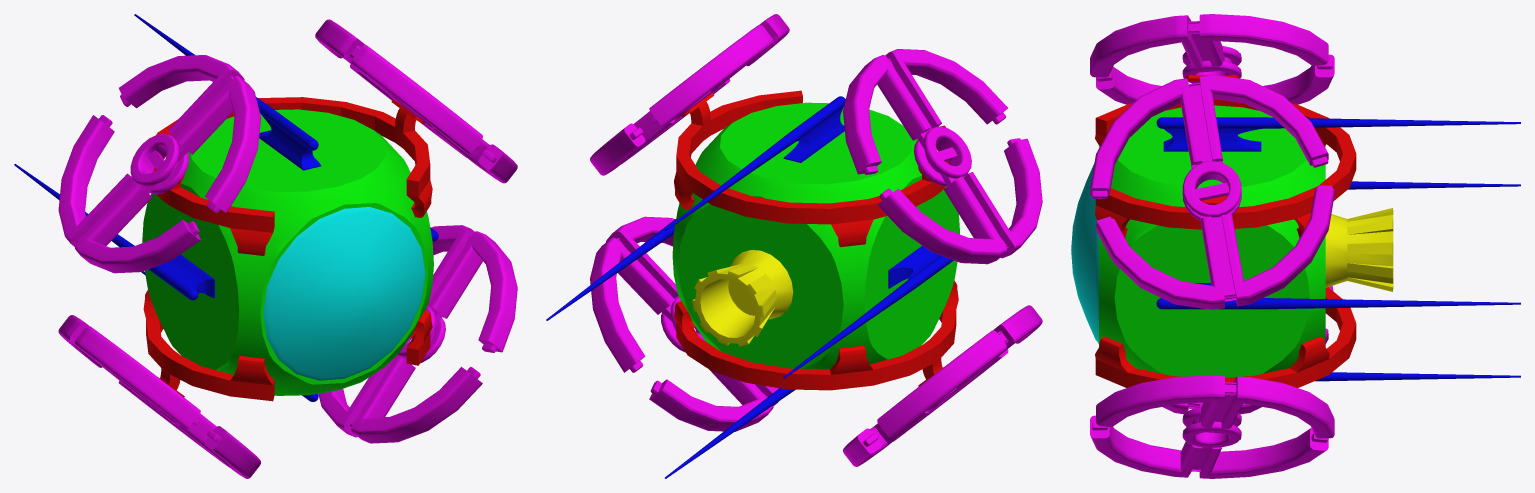
Rendered from EnemyShipModel.fbx.
The picture shows the model from 3 angles, left to right: view 1: azimuth 30°, elevation 25°; view 2: azimuth 150°, elevation 25°; view 3: azimuth 270°, elevation 25°; orthographic projection. The views are drawn at different scales.
Visible parts, largest first — view 1: Ship, Wings1, Braces, Peg; view 2: Wings1, Ship, Braces, Peg, Thruster1; view 3: Wings1, Ship, Braces, Peg, Thruster1.
Boxes of the visible parts, x1=… form: Ship: x1=142, y1=109, x2=433, y2=395; Wings1: x1=58, y1=19, x2=517, y2=478; Braces: x1=143, y1=97, x2=432, y2=401; Peg: x1=14, y1=14, x2=438, y2=401; Wings1: x1=590, y1=14, x2=1042, y2=466; Ship: x1=672, y1=102, x2=959, y2=369; Braces: x1=674, y1=90, x2=958, y2=390; Peg: x1=546, y1=96, x2=953, y2=478; Thruster1: x1=692, y1=250, x2=793, y2=346; Wings1: x1=1090, y1=14, x2=1334, y2=478; Ship: x1=1071, y1=105, x2=1325, y2=377; Braces: x1=1095, y1=75, x2=1356, y2=387; Peg: x1=1156, y1=117, x2=1520, y2=381; Thruster1: x1=1325, y1=208, x2=1393, y2=291.
Size of the model in its own units: 3.21 by 2.95 by 2.97.
